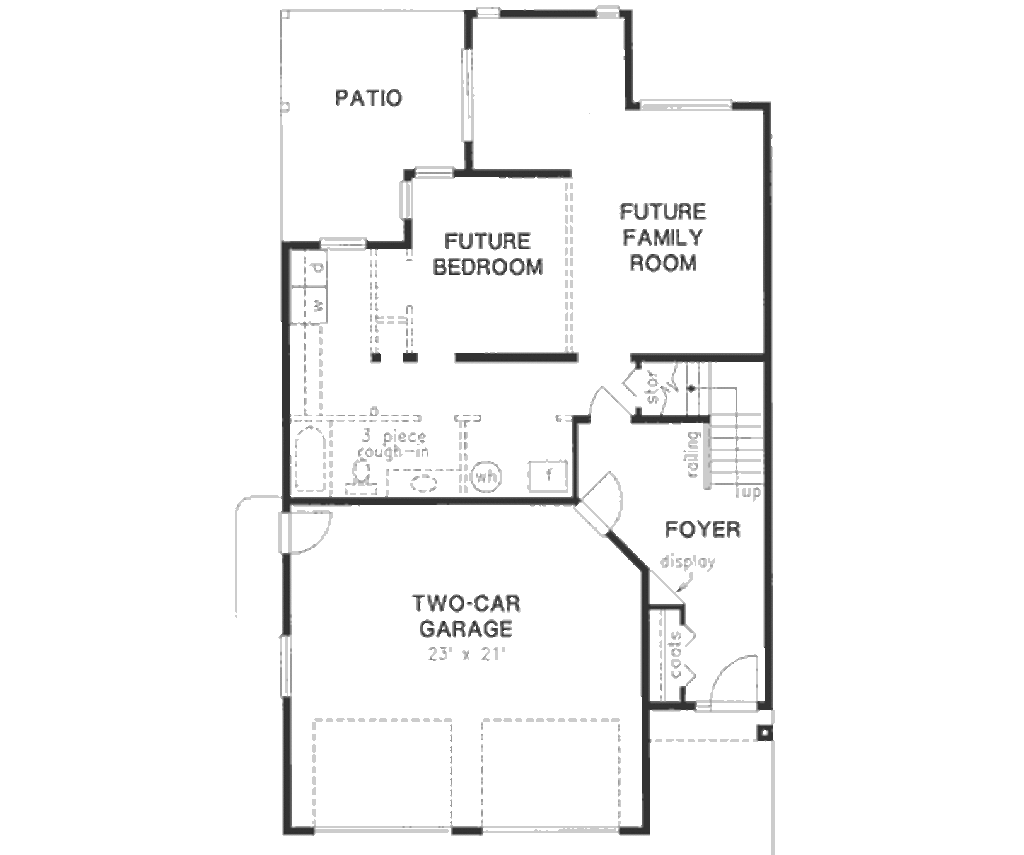door: (567, 471, 631, 546), (271, 500, 334, 559), (705, 653, 761, 714), (571, 383, 636, 420)
large_sink: (340, 450, 384, 495)
small_sink: (385, 469, 462, 500)
stairs: (667, 361, 768, 502)
tub: (288, 415, 335, 508)
window: (454, 50, 486, 155), (269, 626, 298, 695), (634, 96, 738, 112), (406, 150, 453, 183), (305, 235, 367, 254), (394, 177, 418, 225)
